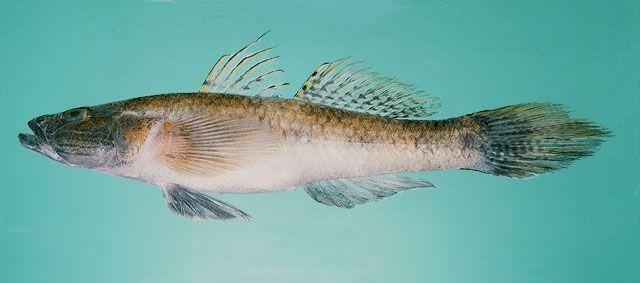Goby: (18, 30, 613, 226)
